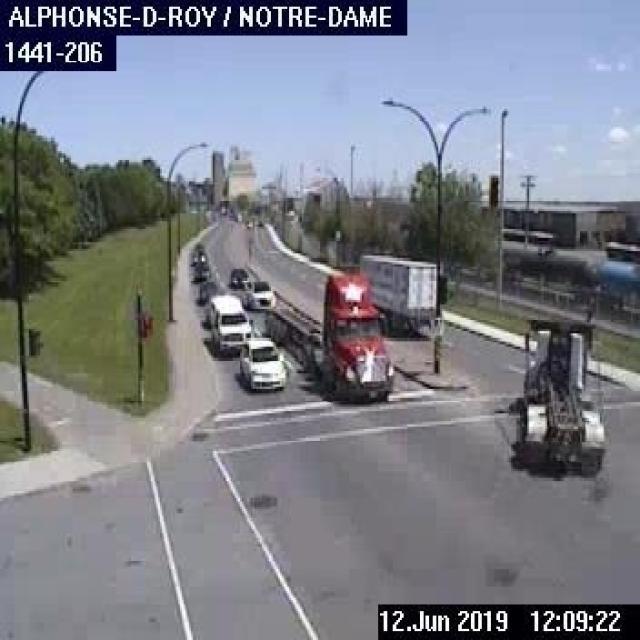vehicle: (262, 266, 397, 404), (509, 313, 607, 478), (354, 248, 446, 339), (206, 290, 252, 354), (237, 333, 286, 393), (239, 276, 277, 311), (227, 262, 250, 288), (195, 278, 217, 304), (193, 264, 211, 282), (188, 250, 207, 267)
